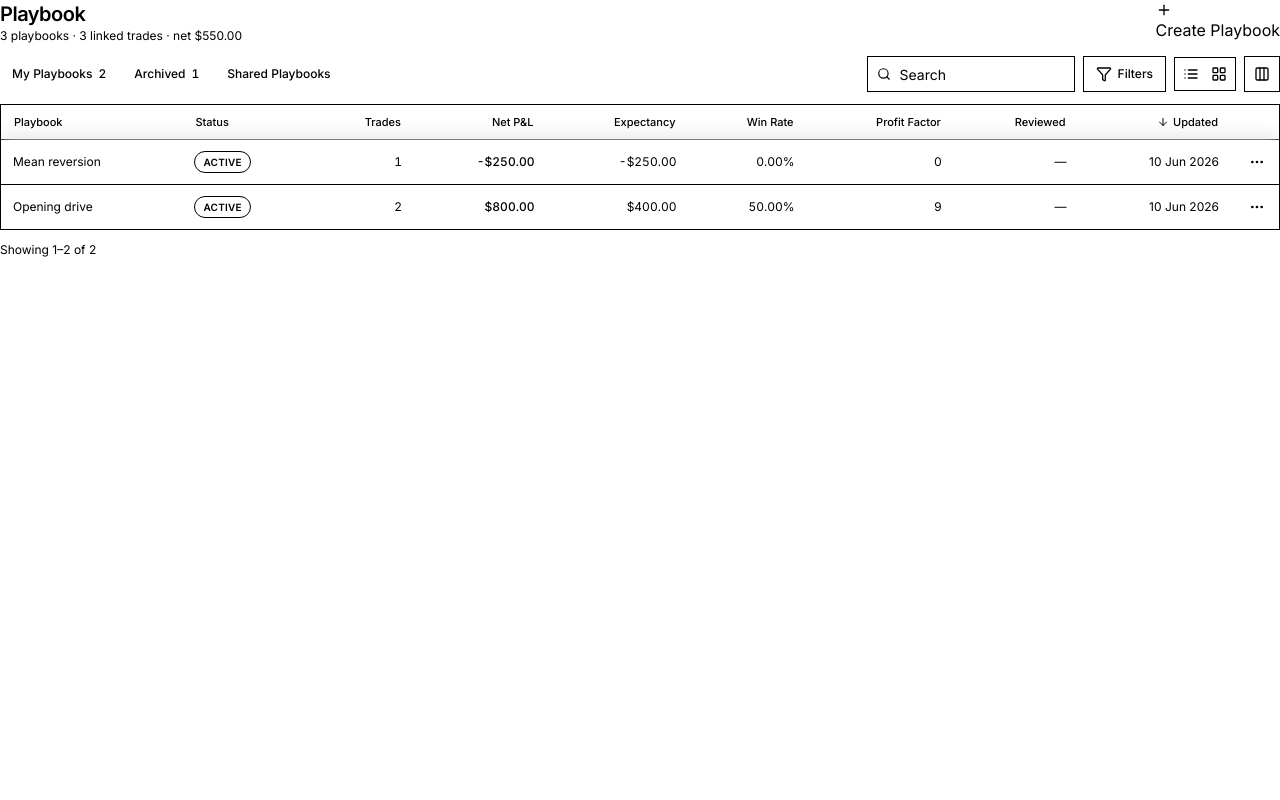
Test: row actions › surfaces a server failure instead of reporting a false success
Click the button named "actions for Opening drive": (1257, 207) [1243,193,1271,221]
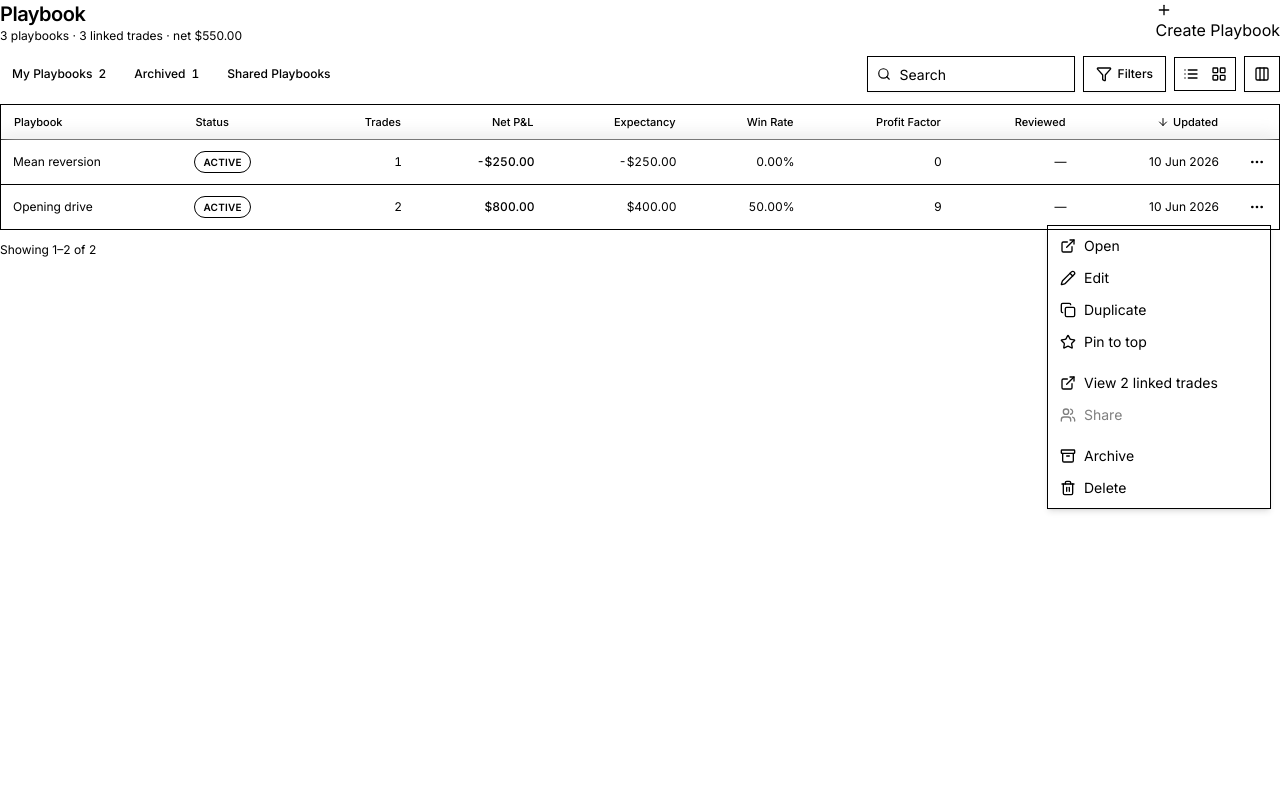
Click the menu item "Delete": (1093, 488) [1060,479,1126,496]
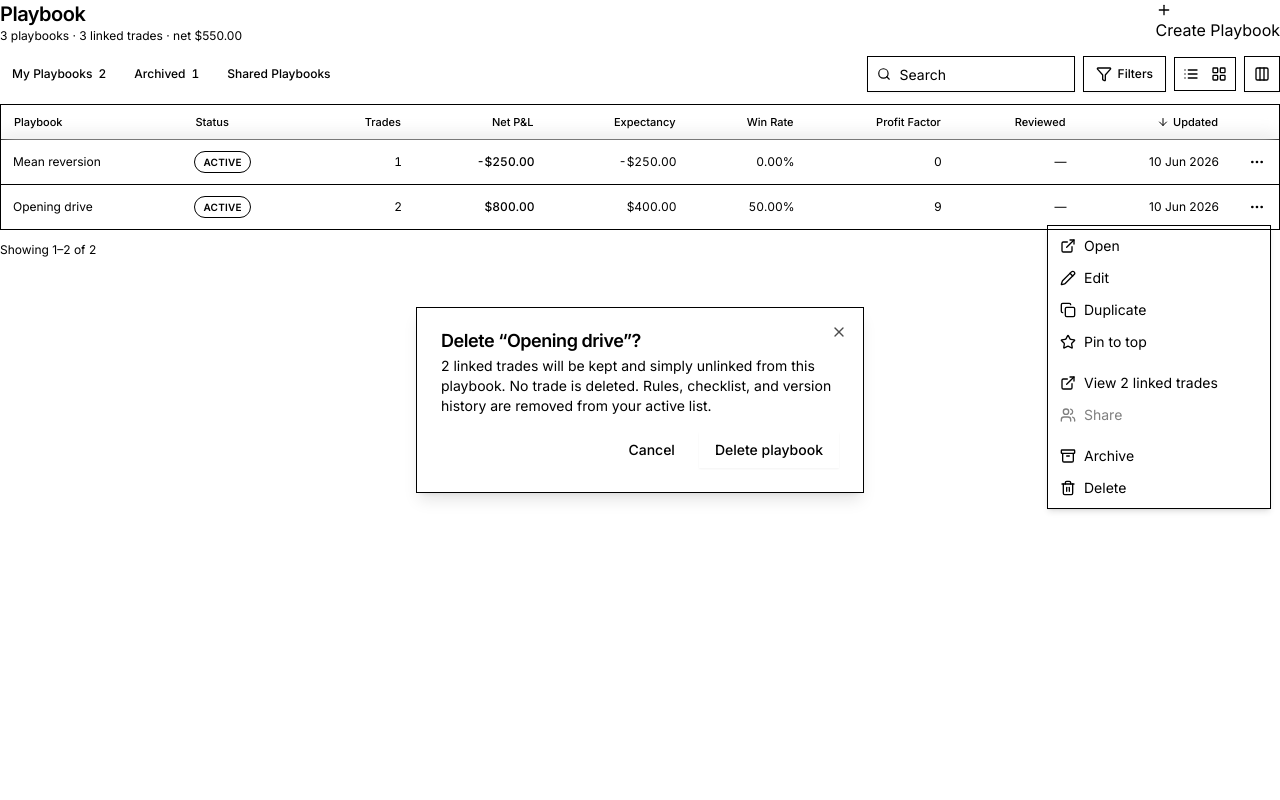
Click the button "Delete playbook": (769, 450) [699,432,839,468]
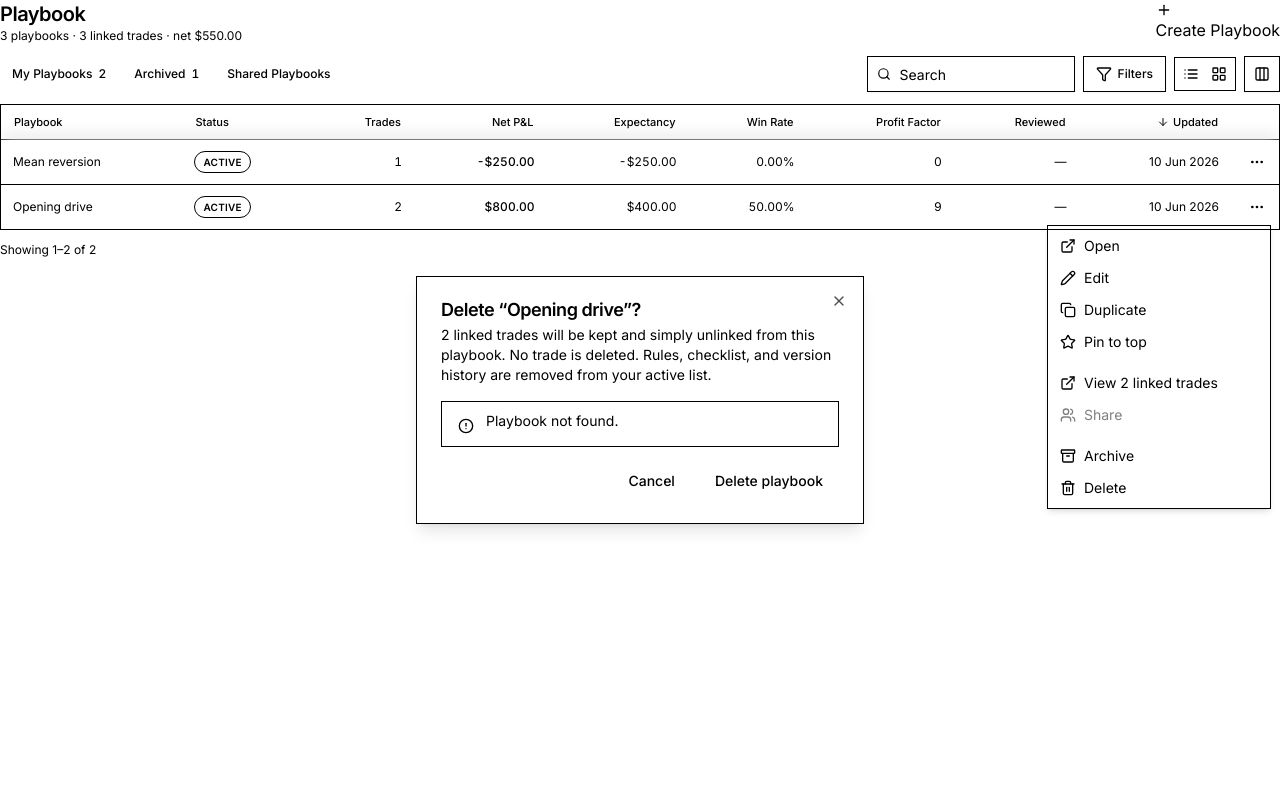
Result: the dialog is shown at [416,276,864,524]
Result: the text "Playbook not found." is shown at [486,412,618,429]
